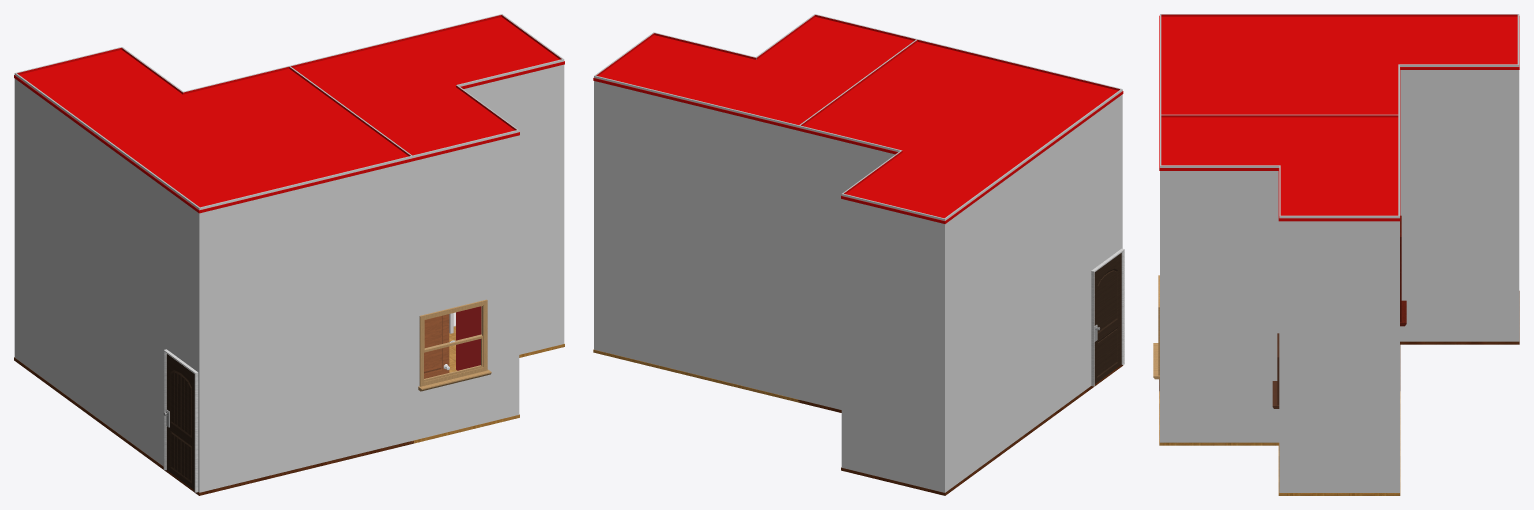
Rendered from ProcTHOR-Train-85.glb.
The picture shows the model from 3 angles, left to right: view 1: azimuth 30°, elevation 25°; view 2: azimuth 150°, elevation 25°; view 3: azimuth 270°, elevation 25°; orthographic projection. The views are drawn at different scales.
Visible parts, largest first — view 1: WallInside#wall|exterior|3.85|5.78|7.71|5.78, WallInside#wall|exterior|7.71|0.00|7.71|5.78, Ceiling#room|2|c, WallInside#wall|exterior|1.93|5.78|3.85|5.78, Ceiling#room|3|c, WallInside#wall|exterior|0.00|3.85|1.93|3.85, Doorway_9, Window_Hung_48x44, WallInside#wall|3|1.93|3.85|1.93|5.78, Floor#room|2|f, Doorway_Door_4b, Floor#room|3|f (+1 smaller); view 2: WallInside#wall|exterior|0.00|1.93|3.85|1.93, WallInside#wall|exterior|7.71|0.00|7.71|5.78, Ceiling#room|2|c, WallInside#wall|exterior|5.78|0.00|7.71|0.00, Ceiling#room|3|c, WallInside#wall|exterior|3.85|1.93|5.78|1.93, Doorway_9, Floor#room|2|f, Floor#room|3|f, WallInside#wall|2|3.85|5.78|7.71|5.78; view 3: WallInside#wall|exterior|0.00|1.93|0.00|3.85, WallInside#wall|exterior|1.93|3.85|1.93|5.78, WallInside#wall|exterior|5.78|0.00|5.78|1.93, Ceiling#room|2|c, Ceiling#room|3|c, Floor#room|3|f, WallInside#wall|2|7.71|0.00|7.71|5.78, WallInside#wall|3|3.85|1.93|3.85|5.78, Floor#room|2|f.
Part boxes in pixels (x1,y1,x2,y2): WallInside#wall|exterior|3.85|5.78|7.71|5.78: (199, 156, 412, 492); WallInside#wall|exterior|7.71|0.00|7.71|5.78: (14, 73, 199, 492); Ceiling#room|2|c: (14, 50, 413, 213); WallInside#wall|exterior|1.93|5.78|3.85|5.78: (412, 130, 519, 440); Ceiling#room|3|c: (291, 17, 564, 161); WallInside#wall|exterior|0.00|3.85|1.93|3.85: (458, 59, 564, 354); Doorway_9: (163, 349, 198, 492); Window_Hung_48x44: (418, 299, 491, 391); WallInside#wall|3|1.93|3.85|1.93|5.78: (456, 85, 517, 370); Floor#room|2|f: (14, 357, 413, 495); Doorway_Door_4b: (424, 314, 449, 378); Floor#room|3|f: (412, 326, 564, 443); WallInside#wall|exterior|0.00|1.93|3.85|1.93: (594, 76, 799, 399); WallInside#wall|exterior|7.71|0.00|7.71|5.78: (945, 89, 1122, 492); Ceiling#room|2|c: (797, 42, 1123, 223); WallInside#wall|exterior|5.78|0.00|7.71|0.00: (841, 194, 944, 492); Ceiling#room|3|c: (593, 17, 915, 130); WallInside#wall|exterior|3.85|1.93|5.78|1.93: (798, 126, 900, 409); Doorway_9: (1091, 248, 1124, 386); Floor#room|2|f: (797, 365, 1123, 495); Floor#room|3|f: (593, 349, 799, 402); WallInside#wall|2|3.85|5.78|7.71|5.78: (916, 39, 1121, 90); WallInside#wall|exterior|0.00|1.93|0.00|3.85: (1279, 216, 1399, 492); WallInside#wall|exterior|1.93|3.85|1.93|5.78: (1160, 165, 1280, 442); WallInside#wall|exterior|5.78|0.00|5.78|1.93: (1399, 64, 1518, 341); Ceiling#room|2|c: (1159, 15, 1519, 117); Ceiling#room|3|c: (1159, 117, 1400, 221); Floor#room|3|f: (1159, 391, 1400, 495); WallInside#wall|2|7.71|0.00|7.71|5.78: (1160, 14, 1518, 16); WallInside#wall|3|3.85|1.93|3.85|5.78: (1161, 115, 1398, 117); Floor#room|2|f: (1159, 291, 1519, 391).
Size of what is drawn, in the model's own units: 7.84 by 4.98 by 5.92.
Materials: 163 (49 with a texture image).
